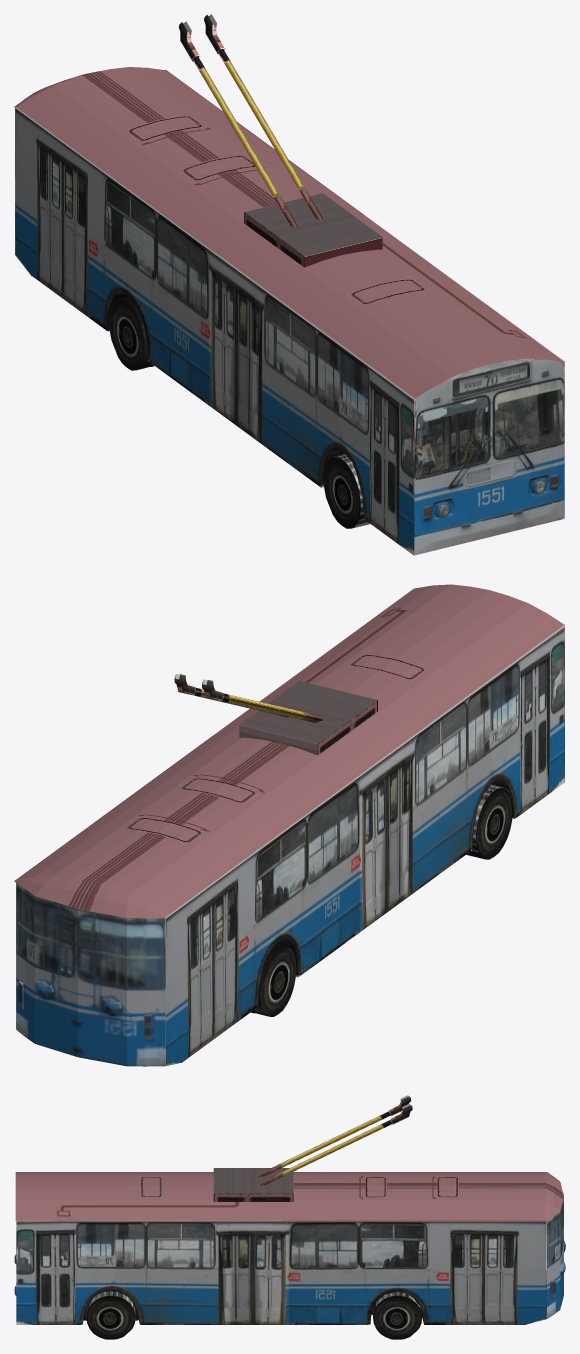
The model's file is bus-trolley.glb.
3 views of the same model, one above another, from view 1: azimuth 30°, elevation 25°; view 2: azimuth 150°, elevation 25°; view 3: azimuth 270°, elevation 25° (orthographic). The views are drawn at different scales.
Visible parts, largest first — view 1: kuzov_Material.001_0; view 2: kuzov_Material.001_0; view 3: kuzov_Material.001_0.
Boxes of the visible parts, bbox=[...] form: kuzov_Material.001_0: bbox=[14, 14, 565, 555]; kuzov_Material.001_0: bbox=[14, 584, 565, 1066]; kuzov_Material.001_0: bbox=[14, 1095, 565, 1339].
Size of the model in its own units: 2.54 by 5.19 by 12.01.
1 material, 1 textured.
